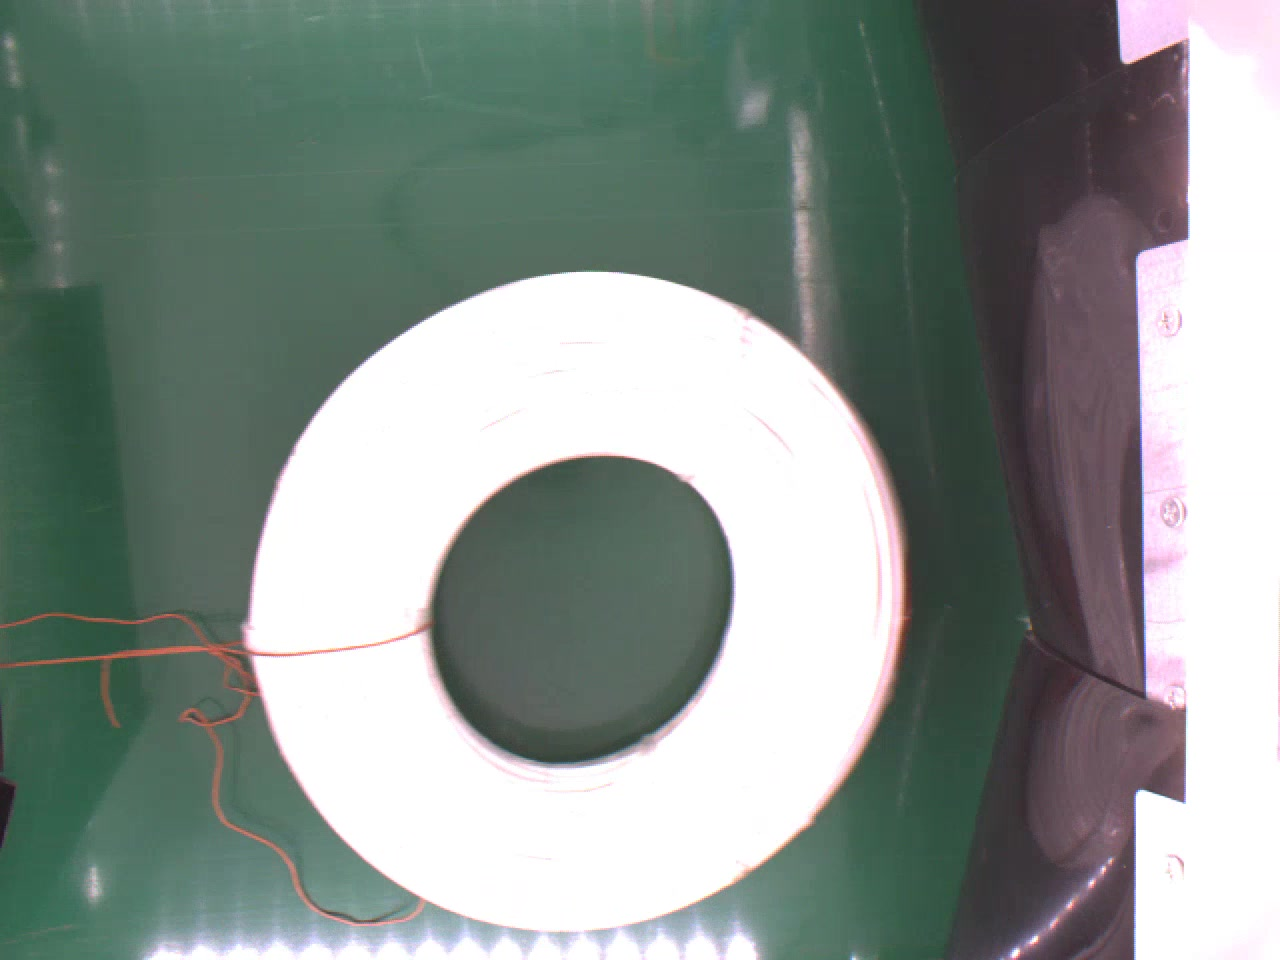white: (241, 266, 911, 931)
